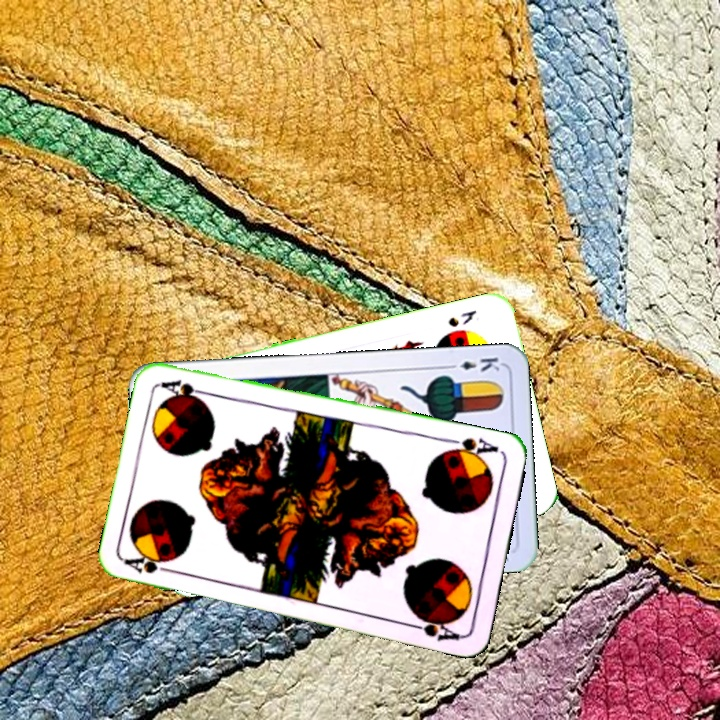EK: (443, 353, 502, 374)
SA: (442, 434, 501, 463), (121, 553, 180, 576)
SK: (444, 306, 479, 330)
